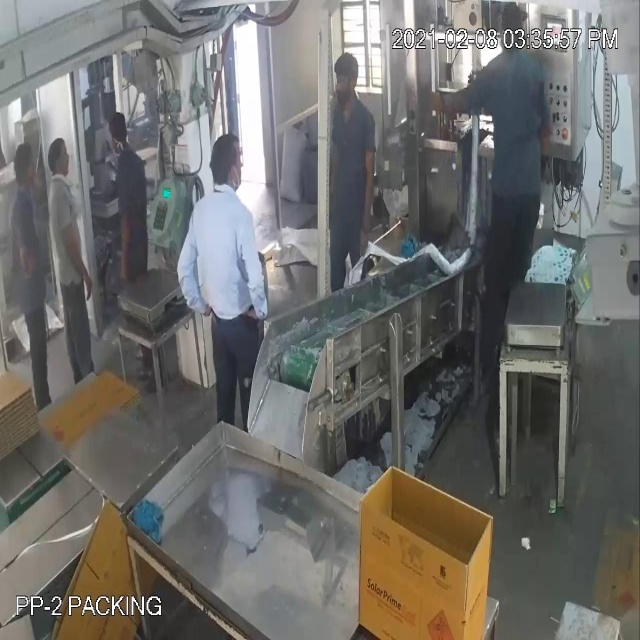Sin_guantes: (164, 209, 223, 335), (55, 188, 98, 307), (356, 132, 388, 259), (244, 228, 279, 331), (8, 209, 47, 288), (111, 192, 139, 296), (422, 77, 482, 122)
